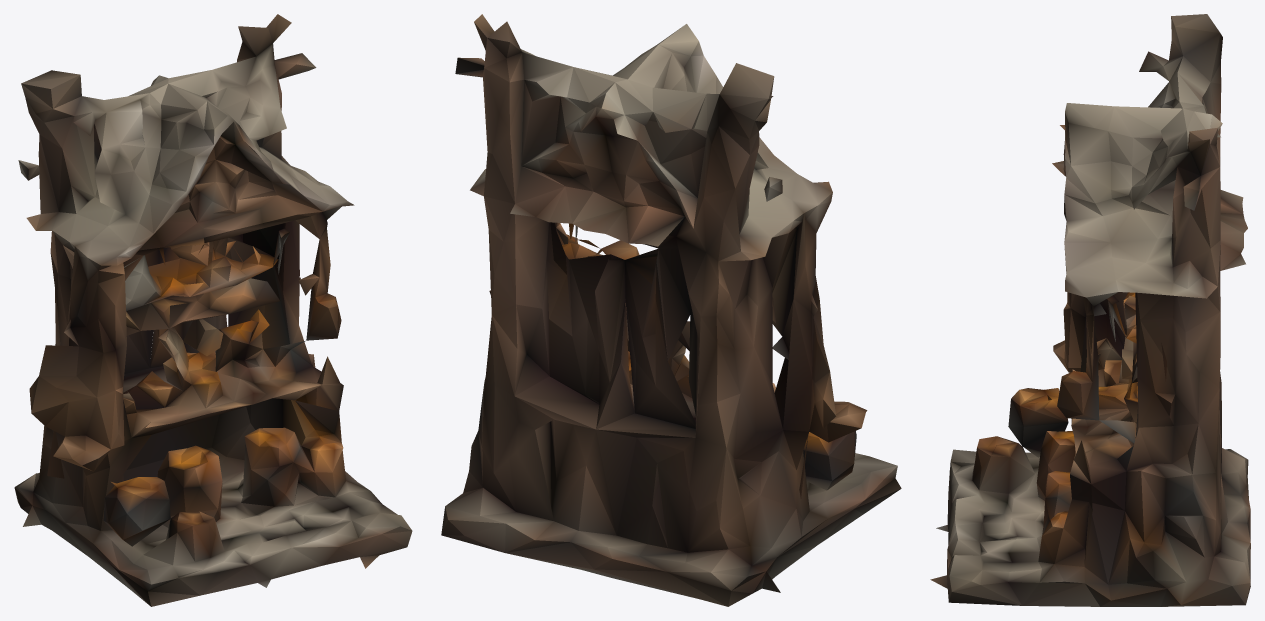
The model's file is lib_stall_timber.vc2.glb.
3 views of the same model, side by side, from view 1: azimuth 30°, elevation 25°; view 2: azimuth 150°, elevation 25°; view 3: azimuth 270°, elevation 25° (orthographic). The views are drawn at different scales.
Parts seen in each view (by area): view 1: lib_stall_timber; view 2: lib_stall_timber; view 3: lib_stall_timber.
Boxes of the visible parts, x1,y1,x2,y2 form: lib_stall_timber: [14, 14, 412, 606]; lib_stall_timber: [441, 14, 901, 606]; lib_stall_timber: [930, 14, 1250, 606].
Bounding box in the file's own units: 1.36 × 1.88 × 1.17.
